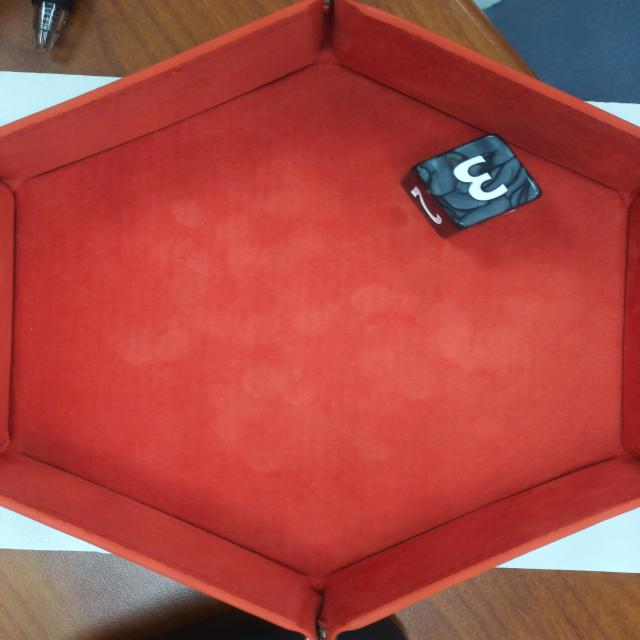dice: (413, 133, 547, 231)
